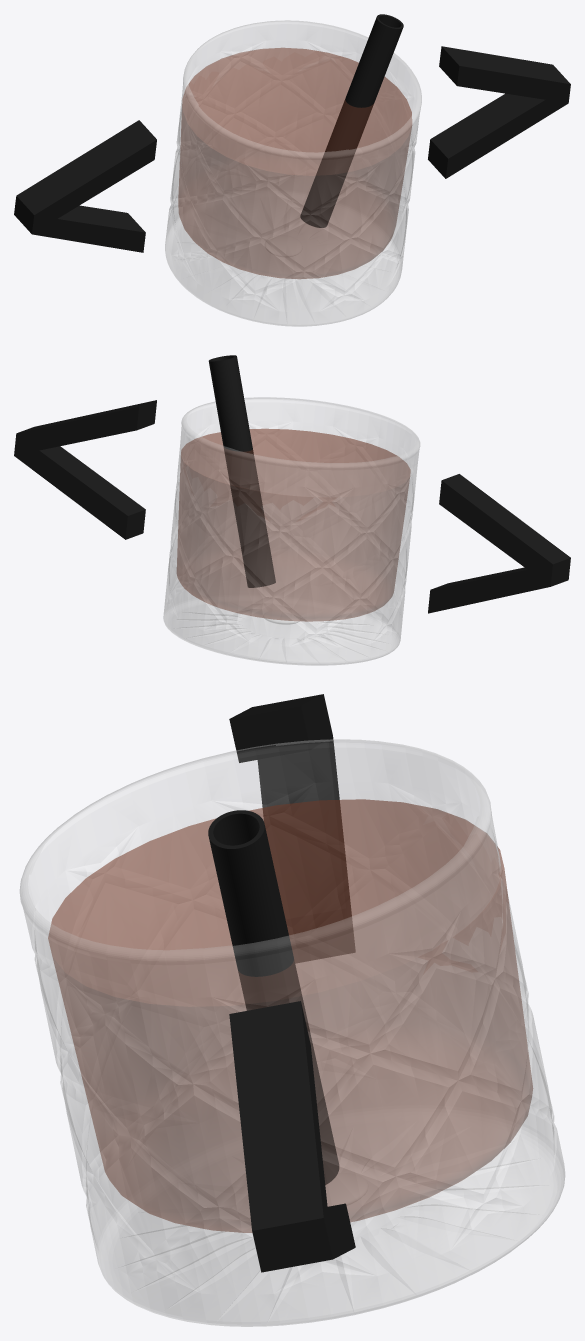
File: glass.glb
3 renders of one model, top to bottom at view 1: azimuth 30°, elevation 25°; view 2: azimuth 150°, elevation 25°; view 3: azimuth 270°, elevation 25°, orthographic. The views are drawn at different scales.
Visible parts, largest first — view 1: Glass, whiskey, Text, Cylinder.001; view 2: Glass, whiskey, Text, Cylinder.001; view 3: Glass, whiskey, Text, Cylinder.001.
Part boxes in pixels (box(x1,y1,x2,y2)): Glass: box(165, 20, 421, 326); whiskey: box(178, 48, 411, 278); Text: box(14, 46, 570, 252); Cylinder.001: box(300, 14, 403, 227); Glass: box(163, 397, 420, 665); whiskey: box(177, 428, 410, 621); Text: box(14, 400, 570, 613); Cylinder.001: box(208, 355, 275, 587); Glass: box(19, 739, 565, 1326); whiskey: box(48, 799, 532, 1232); Text: box(229, 694, 355, 1272); Cylinder.001: box(208, 810, 339, 1184).
Size of the model in its own units: 5.03 by 2.33 by 2.21.
